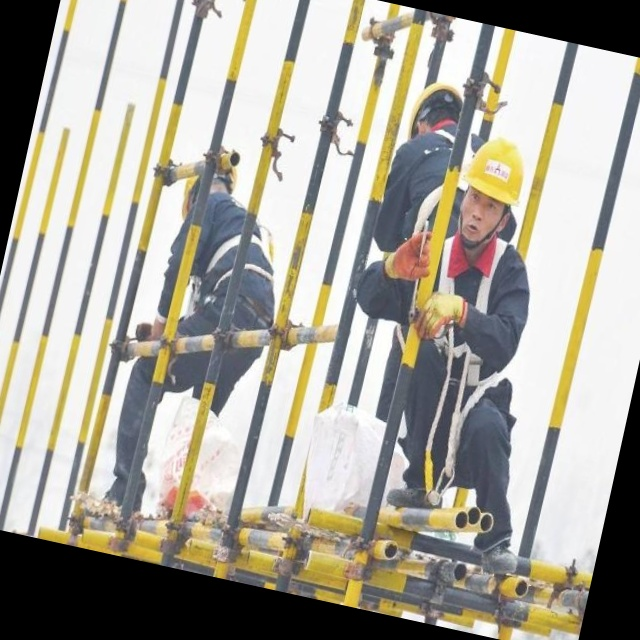Con_Casco: (445, 136, 533, 252)
